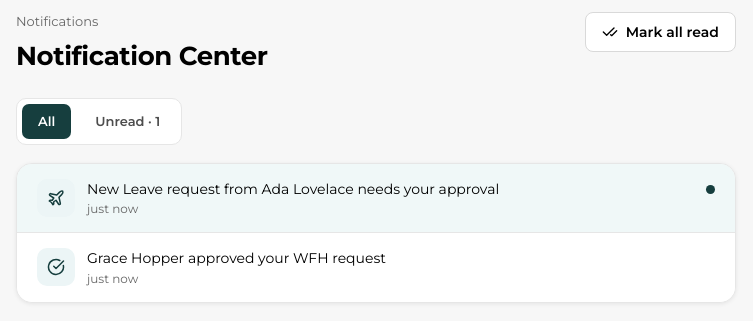
Test case: Mark all read clears the unread count and posts to /notifications/read-all
The image size is (753, 321).
Expected: the button "Unread · 1" is shown, [79,104,176,139]
Click the button "Mark all read". click: (660, 32)
box: [585,12,736,52]
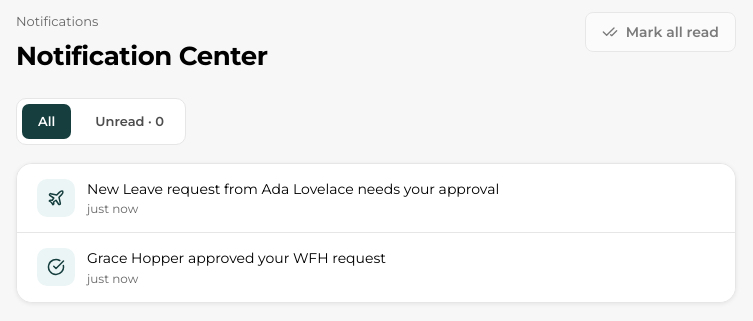
Now the button "Unread · 0" is shown, box [79,104,180,139]
